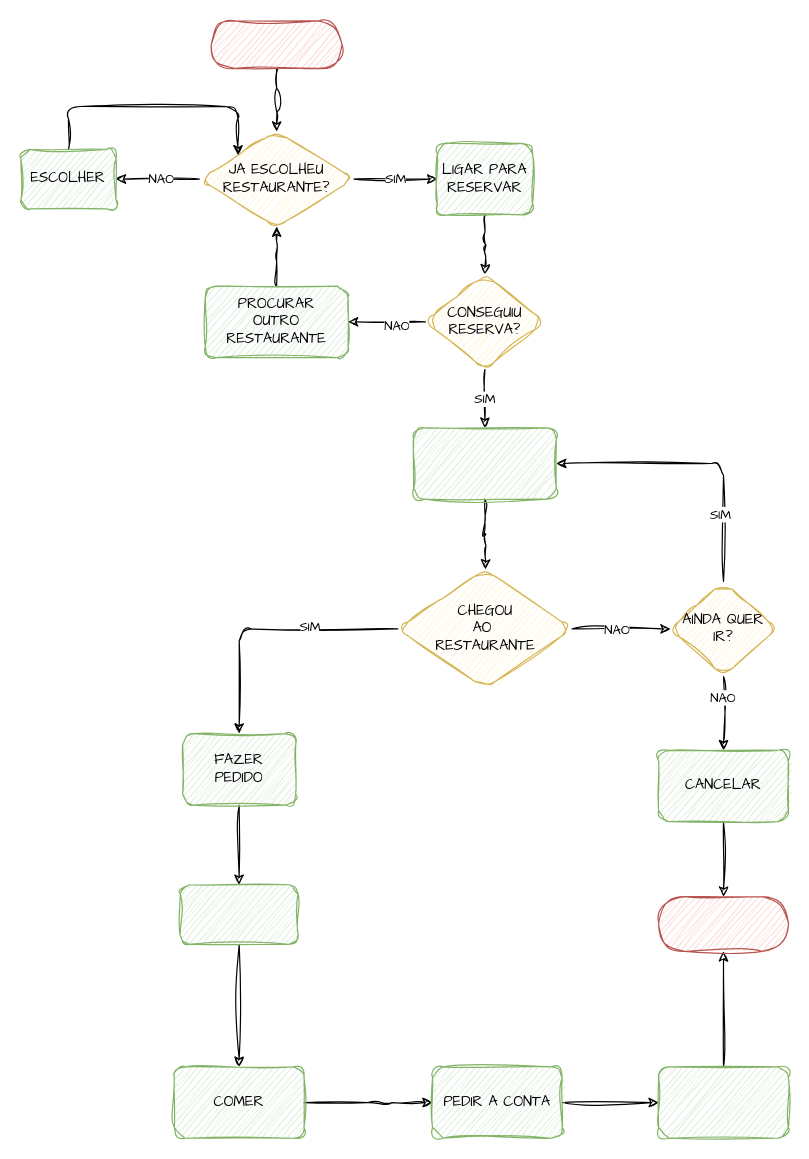
Some shapes in this 809 by 1159 pixel diagram are drawn without their labels. The shapes that lost their labels are listed below. From the top down, each one's box as (x1, y1, x2, y2) in pixels, then its label:
(210, 20, 342, 68): INICIO
(412, 427, 556, 499): ir PARA O RESTAURANTE
(179, 884, 298, 944): AGUARDAR
(657, 895, 788, 951): FIM
(657, 1066, 788, 1138): PAGAR
